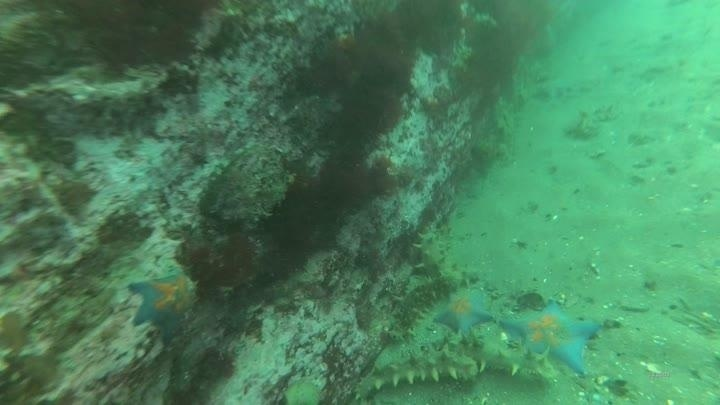holothurian: (353, 345, 480, 401), (441, 335, 560, 388), (387, 267, 455, 336), (409, 227, 469, 289), (567, 98, 623, 139)
starfish: (499, 298, 605, 377), (126, 268, 200, 345), (431, 286, 495, 338)
